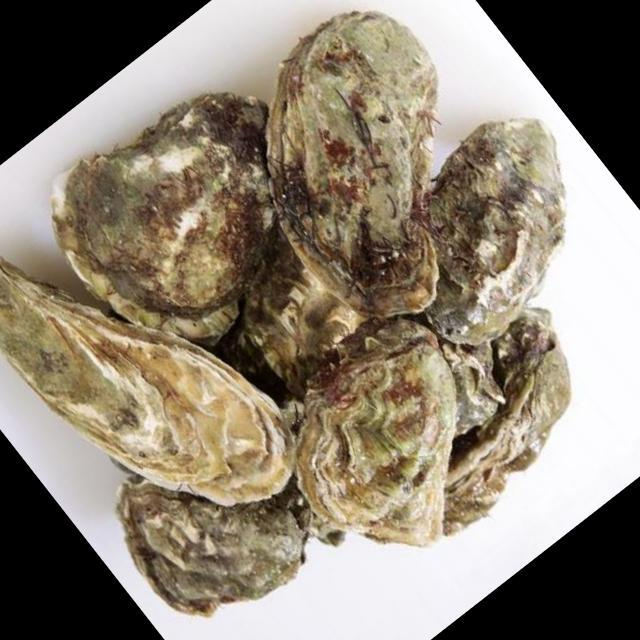Oyster- Indeterminate: (0, 234, 305, 515), (25, 76, 292, 345), (254, 0, 449, 336), (285, 317, 461, 562), (418, 103, 583, 356), (434, 301, 583, 550), (101, 471, 323, 635), (234, 233, 395, 400), (434, 334, 506, 442), (301, 513, 357, 557)
